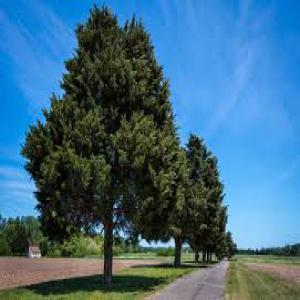Tree: (20, 1, 181, 284), (172, 127, 231, 268)
